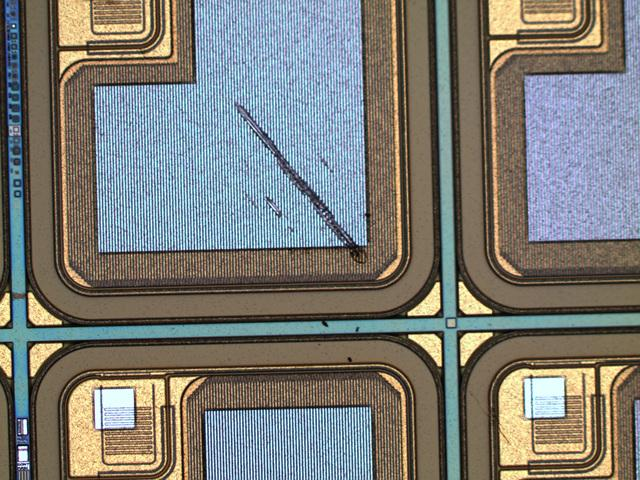SCRATCH: (223, 93, 527, 454)
